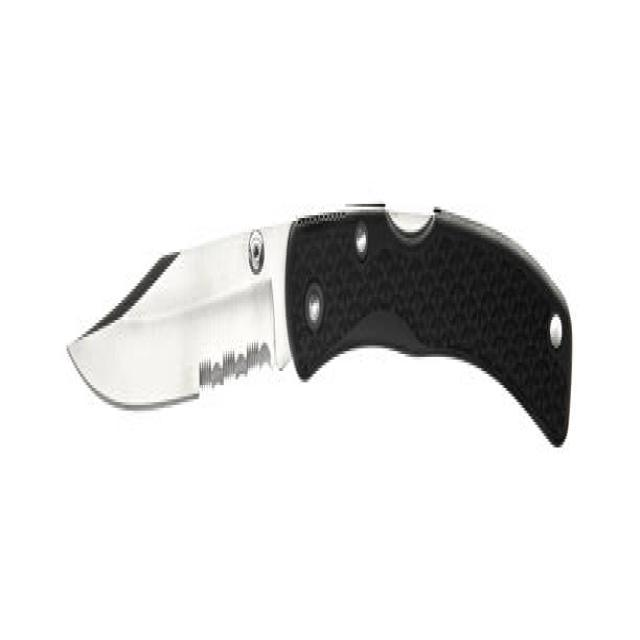knife: (63, 199, 577, 453)
